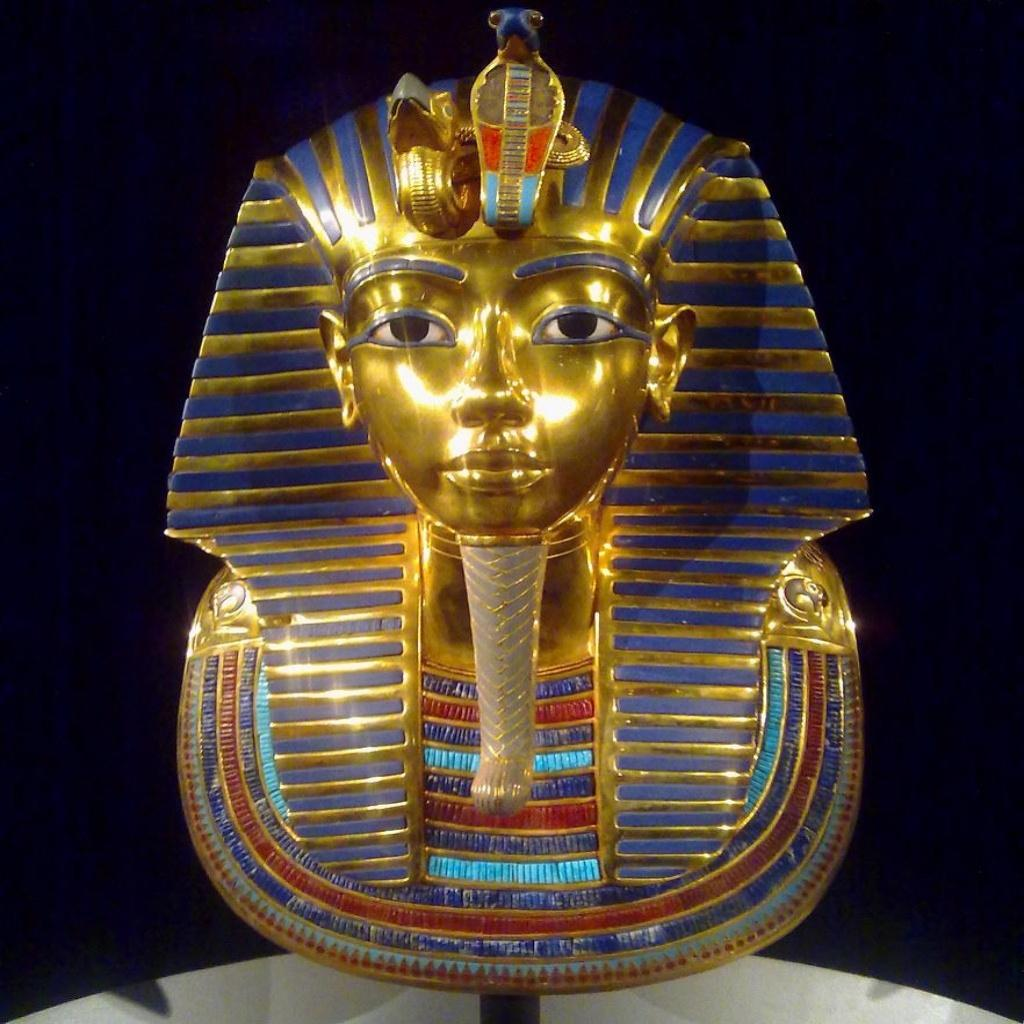Mask of Tutankhamun: (162, 9, 876, 996)
